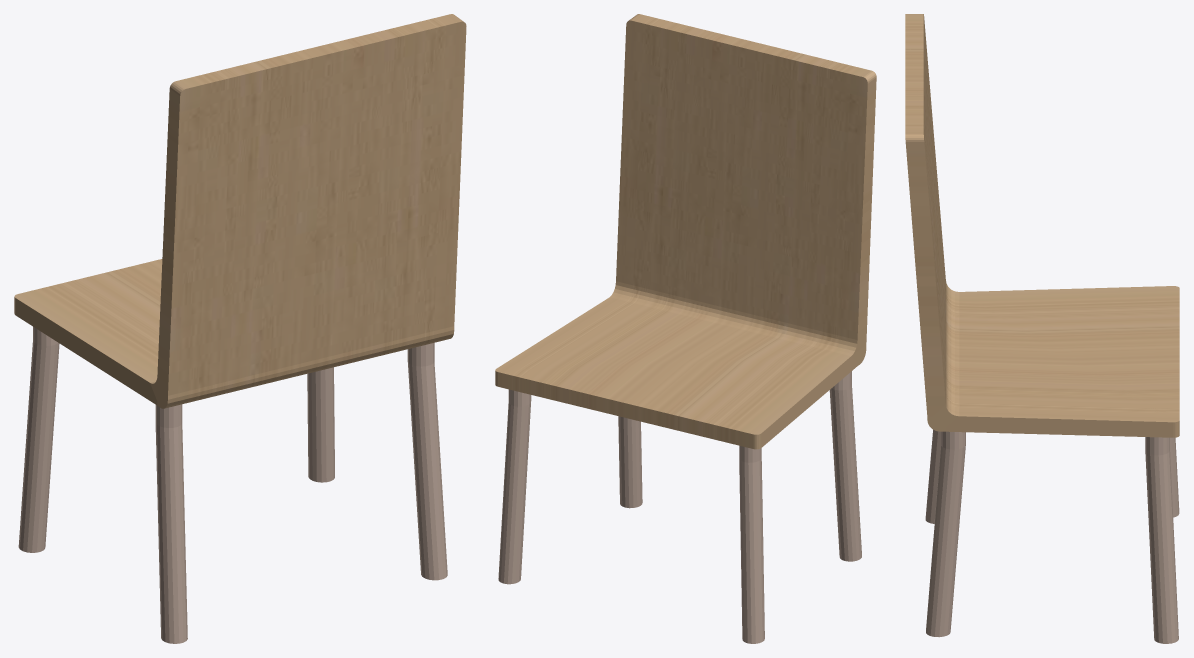
The model's file is Kursi.fbx.
The picture shows the model from 3 angles, left to right: view 1: azimuth 30°, elevation 25°; view 2: azimuth 150°, elevation 25°; view 3: azimuth 270°, elevation 25°; orthographic projection. The views are drawn at different scales.
Parts seen in each view (by area): view 1: Kursi.007; view 2: Kursi.007; view 3: Kursi.007.
Boxes of the visible parts, x1,y1,x2,y2 form: Kursi.007: [14, 14, 466, 643]; Kursi.007: [495, 14, 876, 643]; Kursi.007: [905, 14, 1179, 643].
Bounding box in the file's own units: 207 × 355 × 176.
2 materials, 1 textured.
